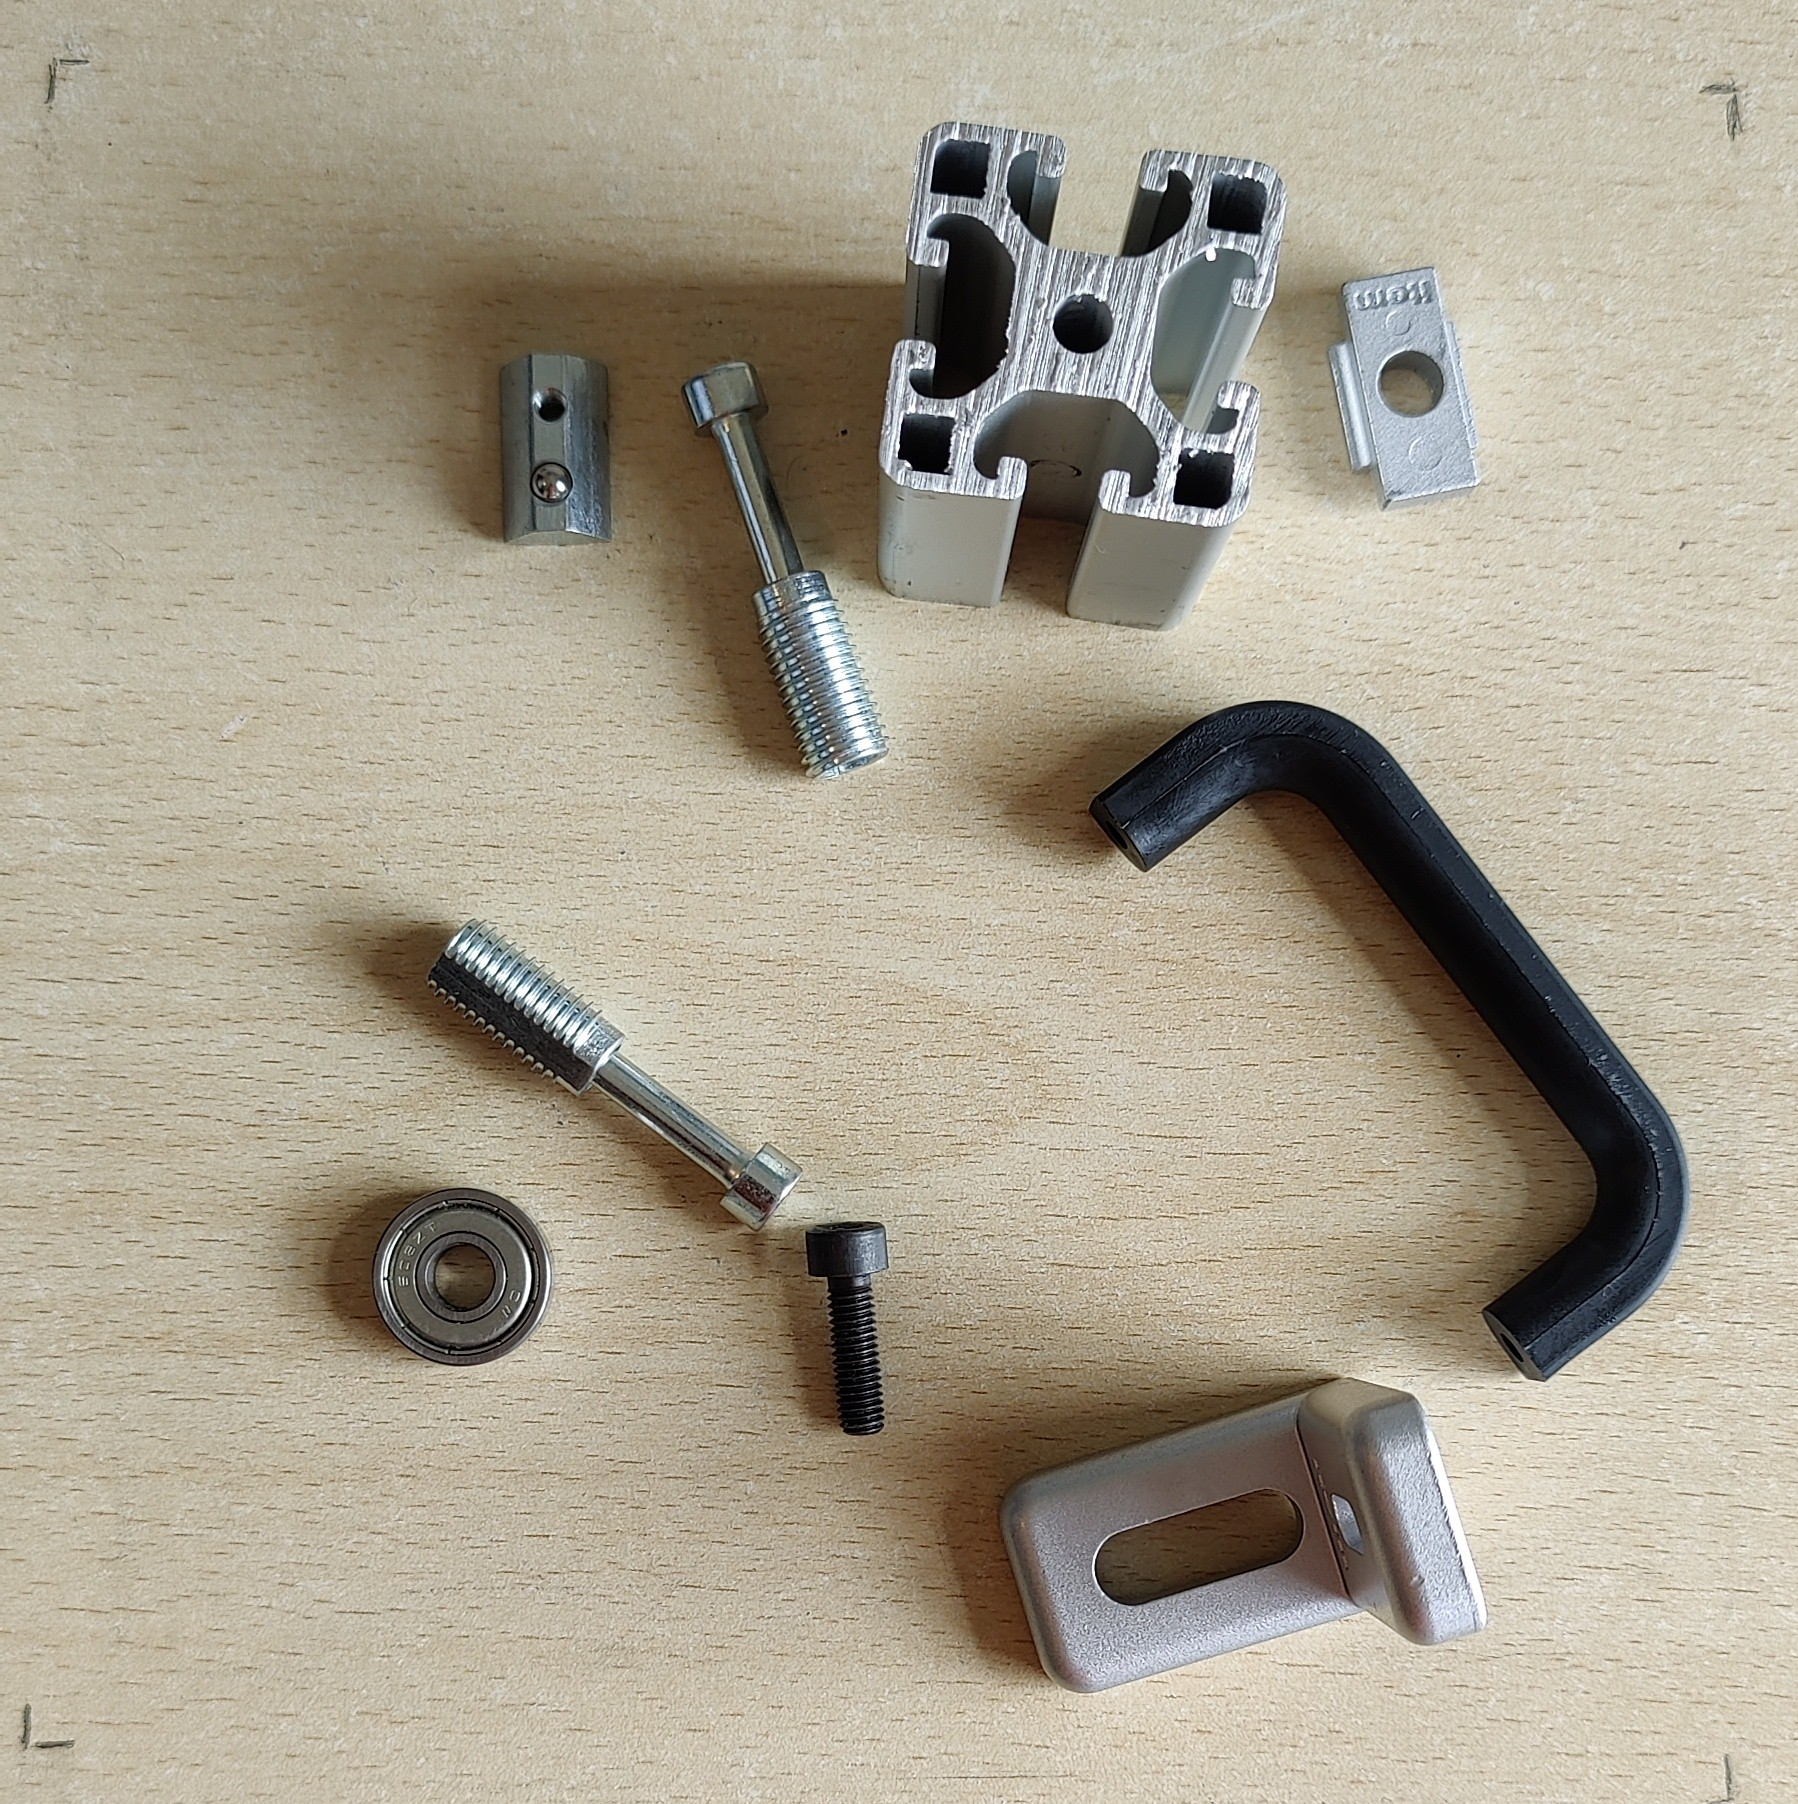Aluminium Extension: (873, 115, 1289, 634)
Ball Bearing: (367, 1185, 555, 1369)
Multiwinkel: (994, 1374, 1492, 1697)
Pull Handle: (1082, 700, 1693, 1384)
Shoulder Socket Head Cap Screw: (417, 912, 807, 1234), (677, 356, 896, 782)
Socket Head Cap Screw: (802, 1216, 892, 1439)
T Nut Square: (1322, 258, 1485, 515)
T Spring Nut: (492, 347, 616, 550)
